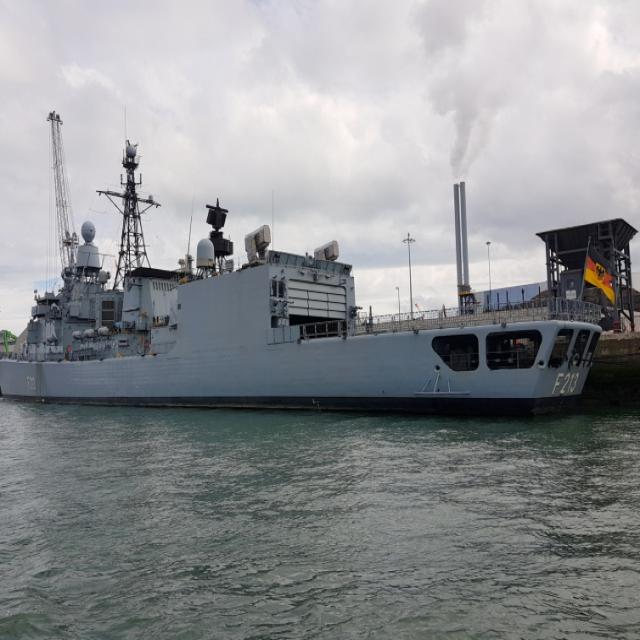Fragata: (1, 137, 607, 426)
